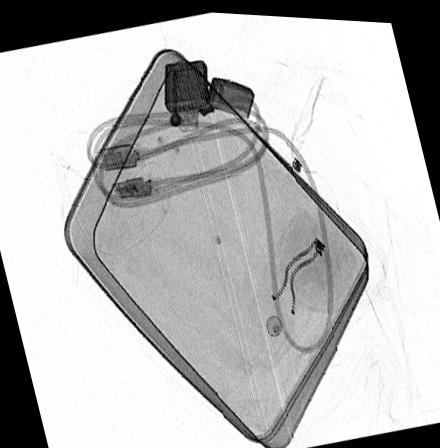Lighter: (163, 58, 254, 130)
